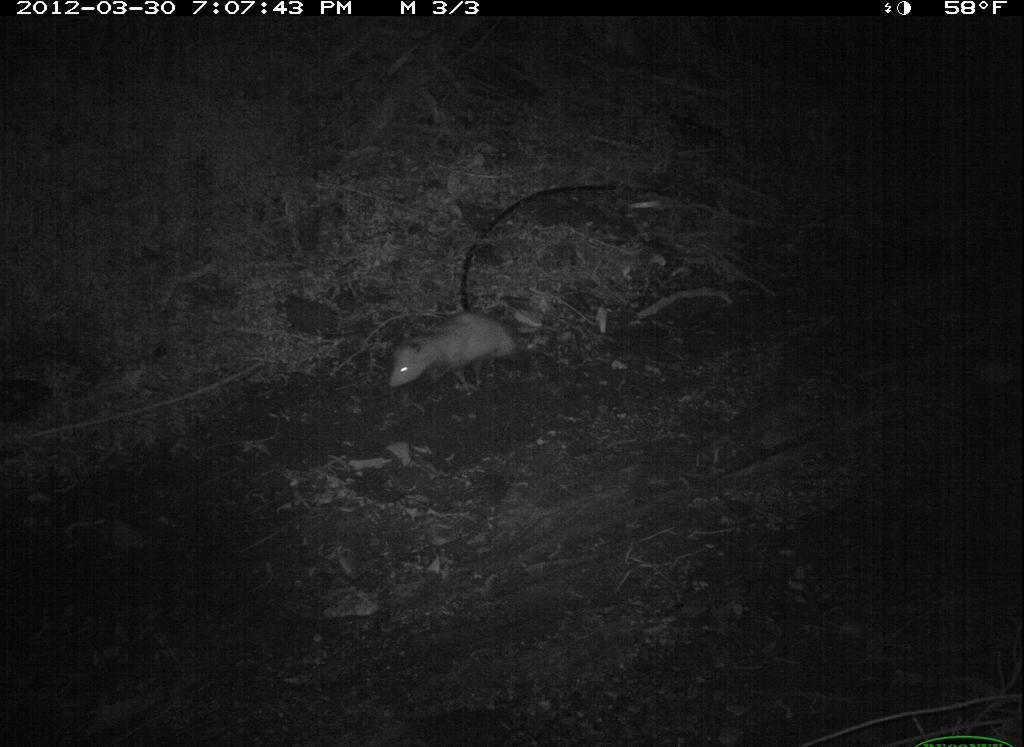opossum: (379, 296, 565, 397)
